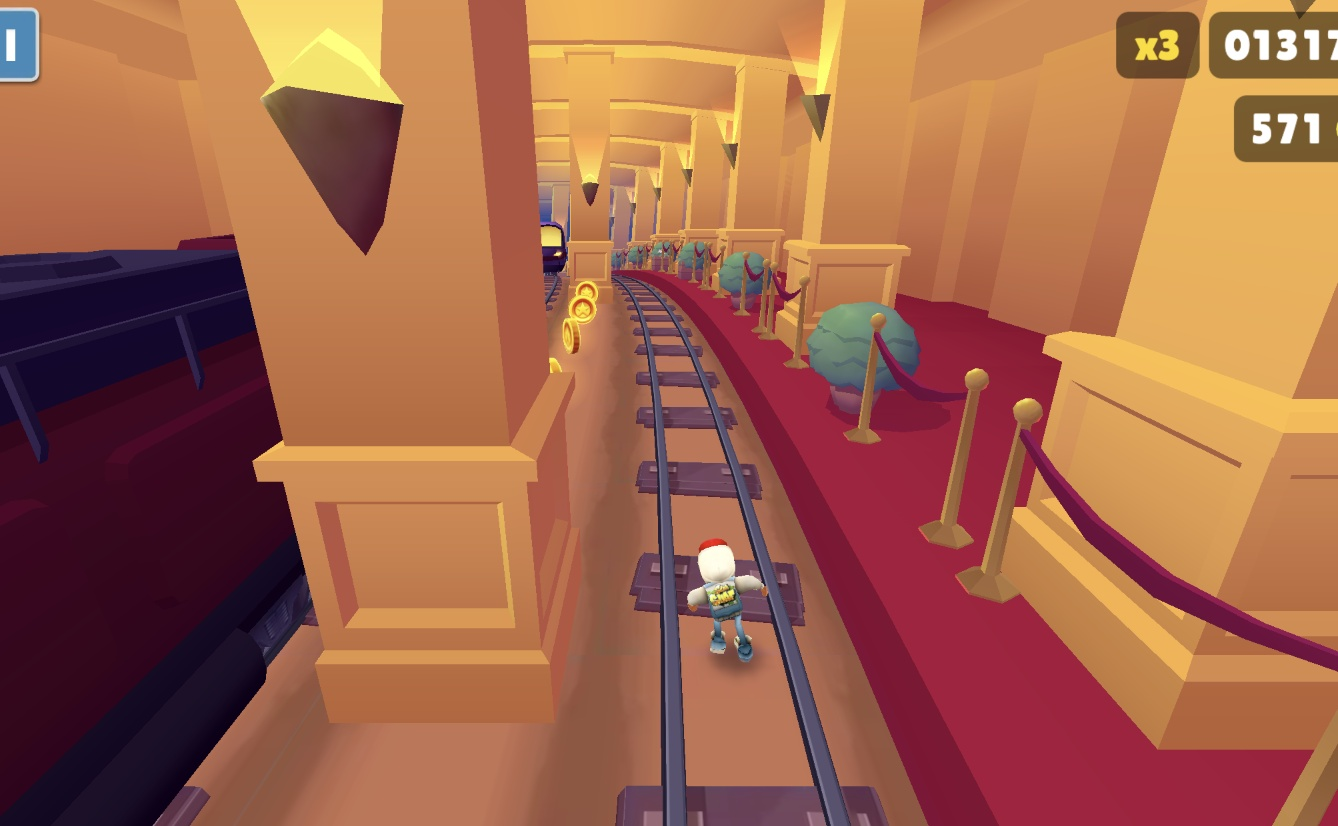pillar: (202, 0, 562, 736), (567, 127, 614, 317)
train: (0, 235, 315, 826), (539, 207, 567, 275)
